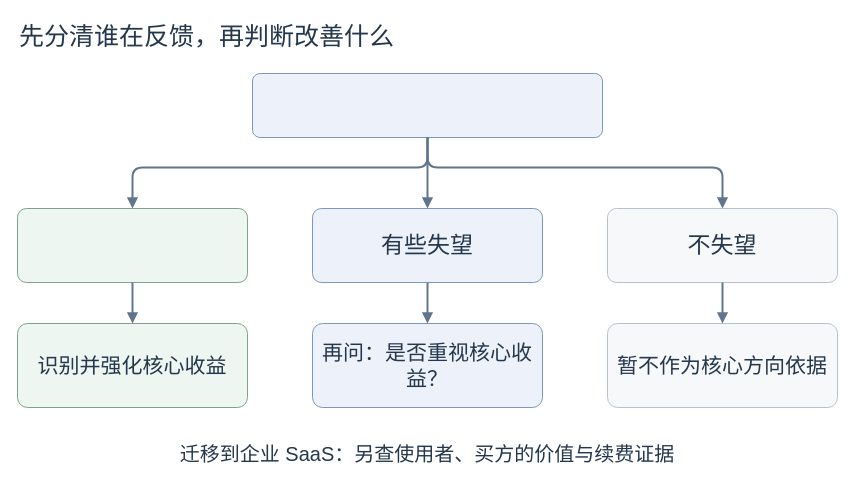
Image size: 855x488. Some labels were removed from this diagram. Each missing label, with the centre of its shape:
"已体验核心价值的受访用户" belongs at point (427, 105).
"非常失望" belongs at point (132, 245).
